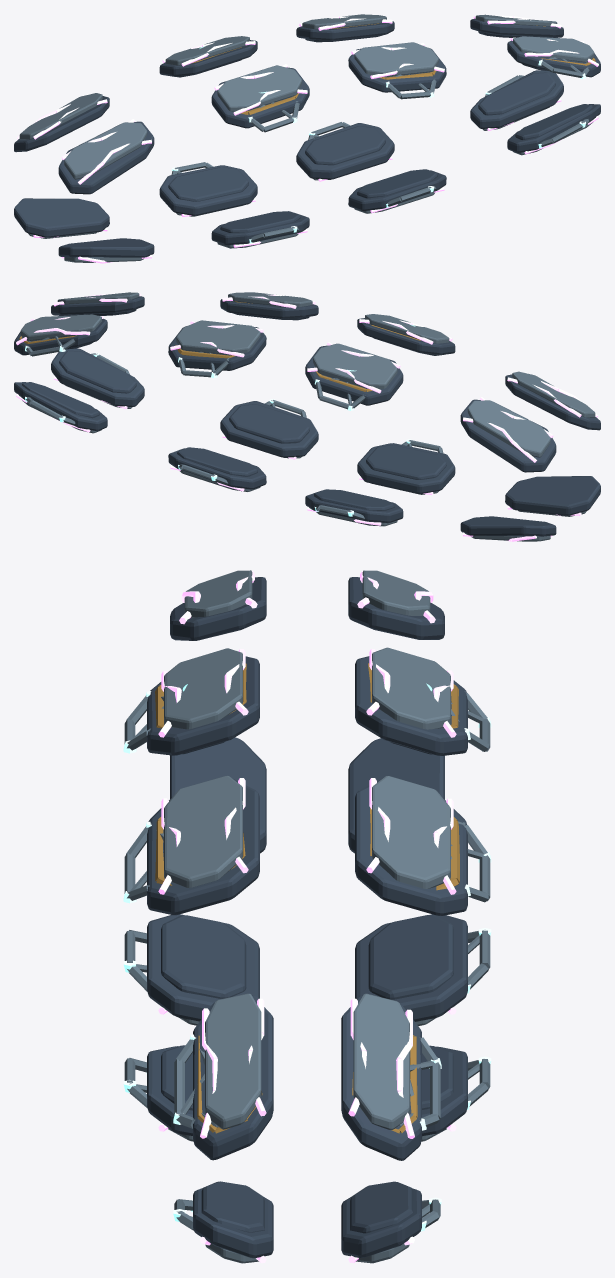
Rendered from plating.glb.
3 views of the same model, one above another, from view 1: azimuth 30°, elevation 25°; view 2: azimuth 150°, elevation 25°; view 3: azimuth 270°, elevation 25° (orthographic). The views are drawn at different scales.
Visible parts, largest first — view 1: p_heavy Fitting gunmetal, p_heavy Brushed fitting edges, p_aegis Fitting gunmetal, p_heavy p_heavy emitter, p_light Brushed fitting edges, p_aegis Champagne gold edging; view 2: p_heavy Fitting gunmetal, p_heavy Brushed fitting edges, p_aegis Fitting gunmetal, p_heavy p_heavy emitter, p_light Brushed fitting edges, p_aegis Champagne gold edging, p_light p_light emitter; view 3: p_heavy Fitting gunmetal, p_heavy Brushed fitting edges, p_aegis Fitting gunmetal, p_light Brushed fitting edges, p_heavy p_heavy emitter, p_aegis Champagne gold edging, p_light p_light emitter.
Part boxes in pixels (left/top/right/bottom): p_heavy Fitting gunmetal: left=14, top=18, right=600, bottom=257; p_heavy Brushed fitting edges: left=19, top=14, right=594, bottom=262; p_aegis Fitting gunmetal: left=168, top=31, right=592, bottom=232; p_heavy p_heavy emitter: left=17, top=15, right=598, bottom=263; p_light Brushed fitting edges: left=171, top=57, right=589, bottom=242; p_aegis Champagne gold edging: left=192, top=23, right=595, bottom=114; p_heavy Fitting gunmetal: left=14, top=296, right=600, bottom=536; p_heavy Brushed fitting edges: left=20, top=292, right=595, bottom=541; p_aegis Fitting gunmetal: left=22, top=309, right=446, bottom=510; p_heavy p_heavy emitter: left=16, top=293, right=597, bottom=541; p_light Brushed fitting edges: left=26, top=335, right=443, bottom=520; p_aegis Champagne gold edging: left=19, top=301, right=420, bottom=391; p_light p_light emitter: left=25, top=345, right=412, bottom=516; p_heavy Fitting gunmetal: left=147, top=577, right=467, bottom=1258; p_heavy Brushed fitting edges: left=164, top=570, right=450, bottom=1263; p_aegis Fitting gunmetal: left=161, top=741, right=453, bottom=1233; p_light Brushed fitting edges: left=124, top=691, right=490, bottom=1230; p_heavy p_heavy emitter: left=158, top=571, right=456, bottom=1263; p_aegis Champagne gold edging: left=155, top=663, right=459, bottom=1133; p_light p_light emitter: left=123, top=691, right=491, bottom=1231.
Size of the model in its own units: 39.2 by 11.49 by 11.64.
